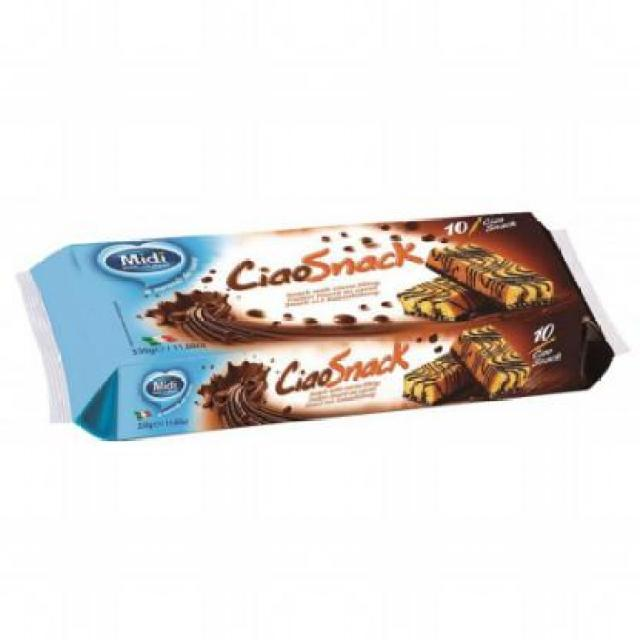Merendine: (16, 208, 638, 444)
